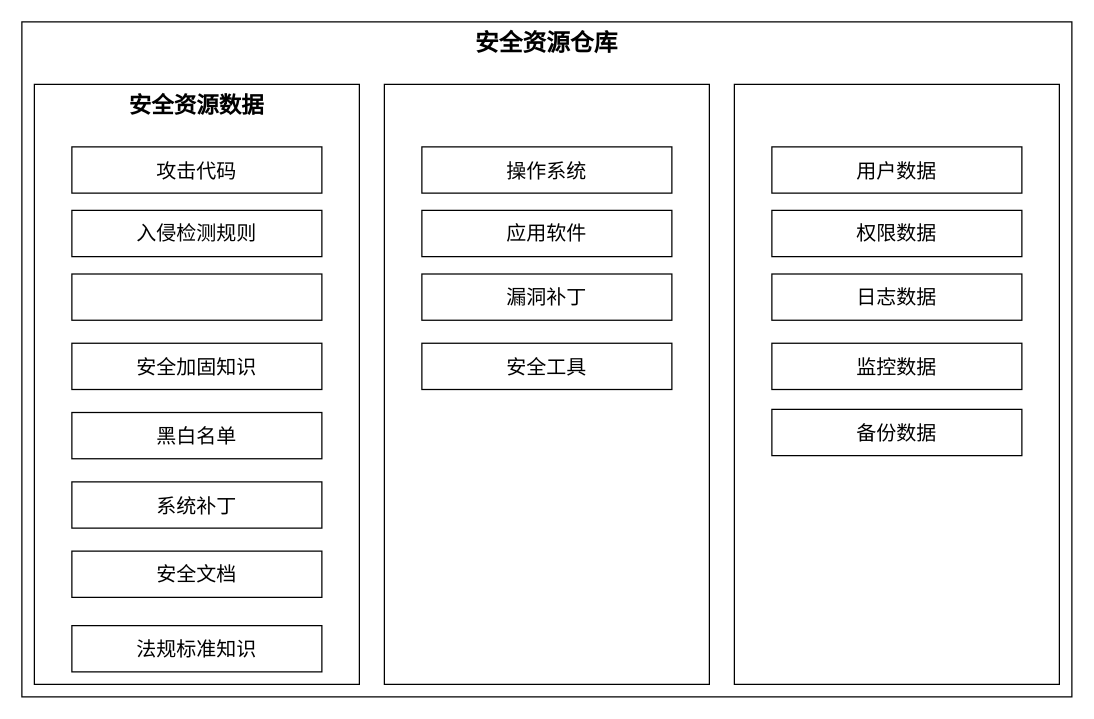
Image size: 1094x719. Some labels were removed from this diagram. The box of each missing label's shape, as (x1, y1, x2, y2) in pixels:
漏洞资源: (71, 273, 322, 320)
申威平台安全资源: (383, 83, 709, 684)
系统数据: (733, 83, 1059, 684)
